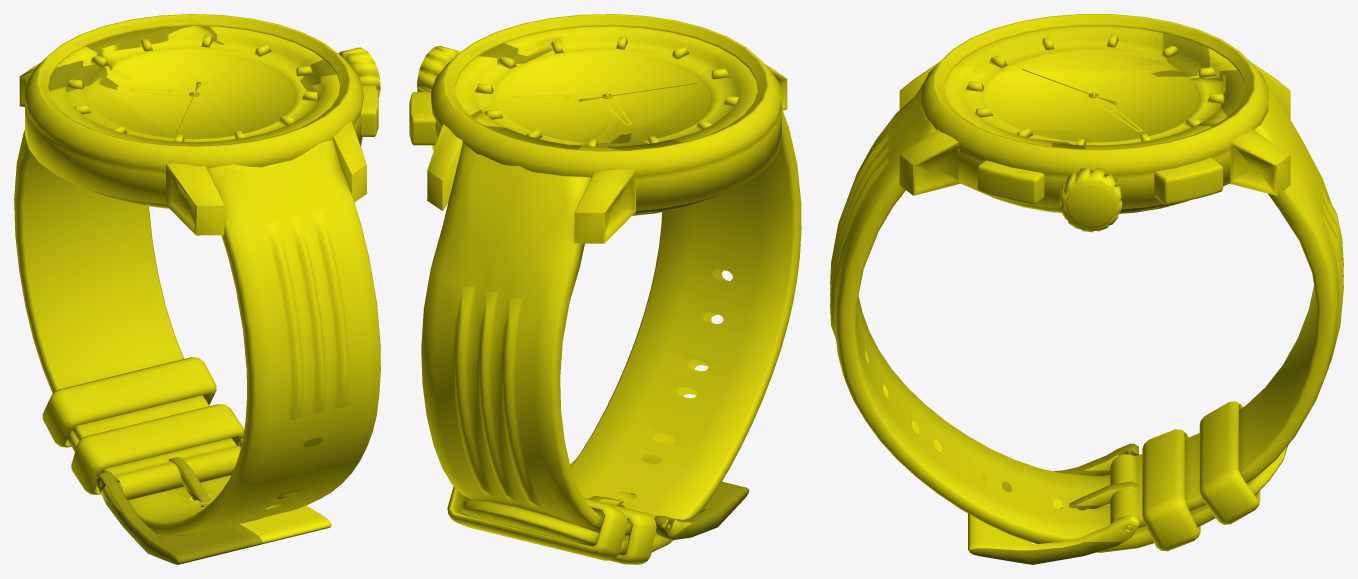
File: watcher01.obj
The picture shows the model from 3 angles, left to right: view 1: azimuth 30°, elevation 25°; view 2: azimuth 150°, elevation 25°; view 3: azimuth 270°, elevation 25°; orthographic projection. The views are drawn at different scales.
Parts seen in each view (by area): view 1: Object001, watch_main; view 2: Object001, watch_main; view 3: watch_main, Object001.
Part boxes in pixels (x1=…): Object001: x1=14, y1=47, x2=380, y2=536; watch_main: x1=19, y1=14, x2=378, y2=564; Object001: x1=417, y1=46, x2=801, y2=564; watch_main: x1=409, y1=14, x2=787, y2=539; watch_main: x1=899, y1=14, x2=1290, y2=564; Object001: x1=830, y1=81, x2=1343, y2=552.
Bounding box in the file's own units: 3.7 × 4.82 × 5.01.
